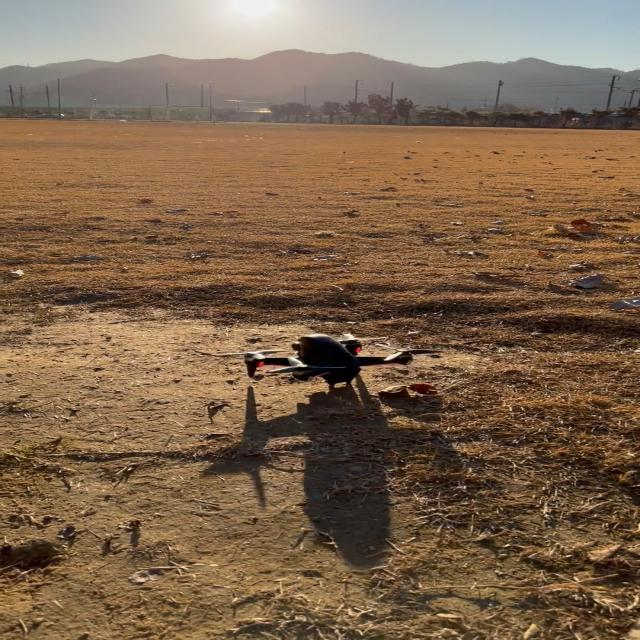Drone: (228, 334, 434, 396)
